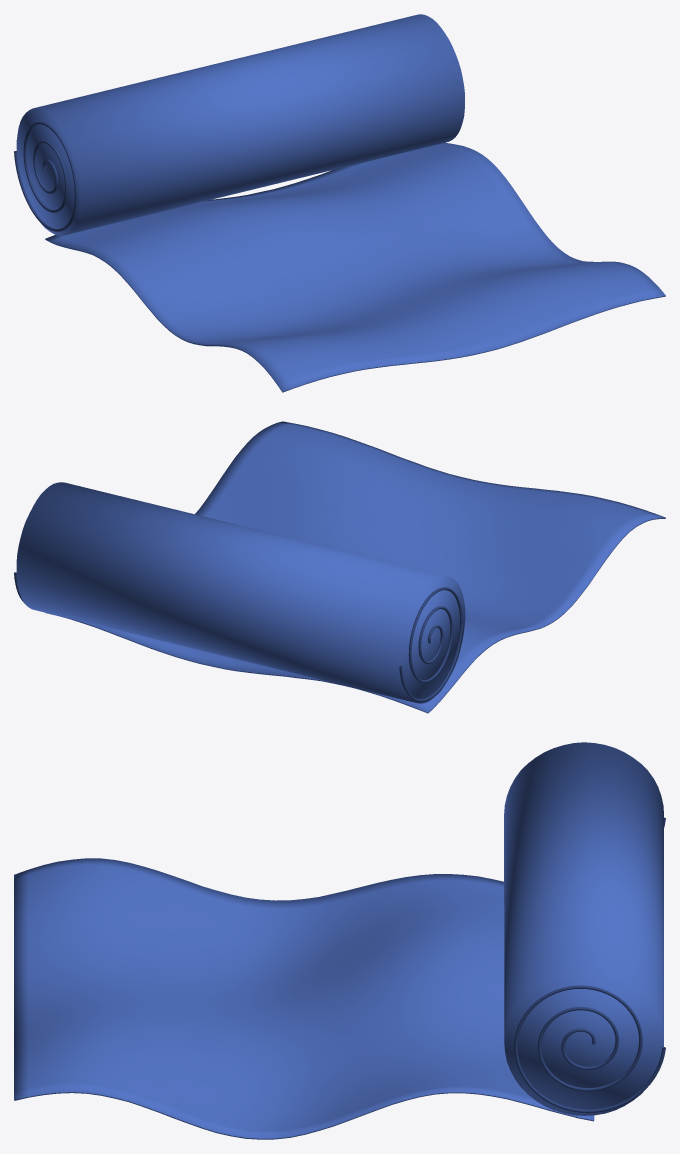
The picture shows the model from 3 angles, top to bottom: view 1: azimuth 30°, elevation 25°; view 2: azimuth 150°, elevation 25°; view 3: azimuth 270°, elevation 25°; orthographic projection. The views are drawn at different scales.
Visible parts, largest first — view 1: TI013 / editable draped woven sheet, TI013 / rolled cloth body, TI013 / visible spiral selvage; view 2: TI013 / rolled cloth body, TI013 / editable draped woven sheet, TI013 / visible spiral selvage; view 3: TI013 / editable draped woven sheet, TI013 / rolled cloth body, TI013 / visible spiral selvage.001.
Part boxes in pixels (x1,y1,x2,y2): TI013 / editable draped woven sheet: (45, 142, 665, 392); TI013 / rolled cloth body: (16, 14, 464, 235); TI013 / visible spiral selvage: (14, 121, 77, 231); TI013 / rolled cloth body: (16, 482, 465, 703); TI013 / editable draped woven sheet: (45, 421, 665, 713); TI013 / visible spiral selvage: (399, 587, 462, 701); TI013 / editable draped woven sheet: (14, 858, 594, 1139); TI013 / rolled cloth body: (504, 742, 663, 1115); TI013 / visible spiral selvage.001: (514, 985, 665, 1112).
Size of the model in its own units: 2.73 by 0.9327 by 3.26.
